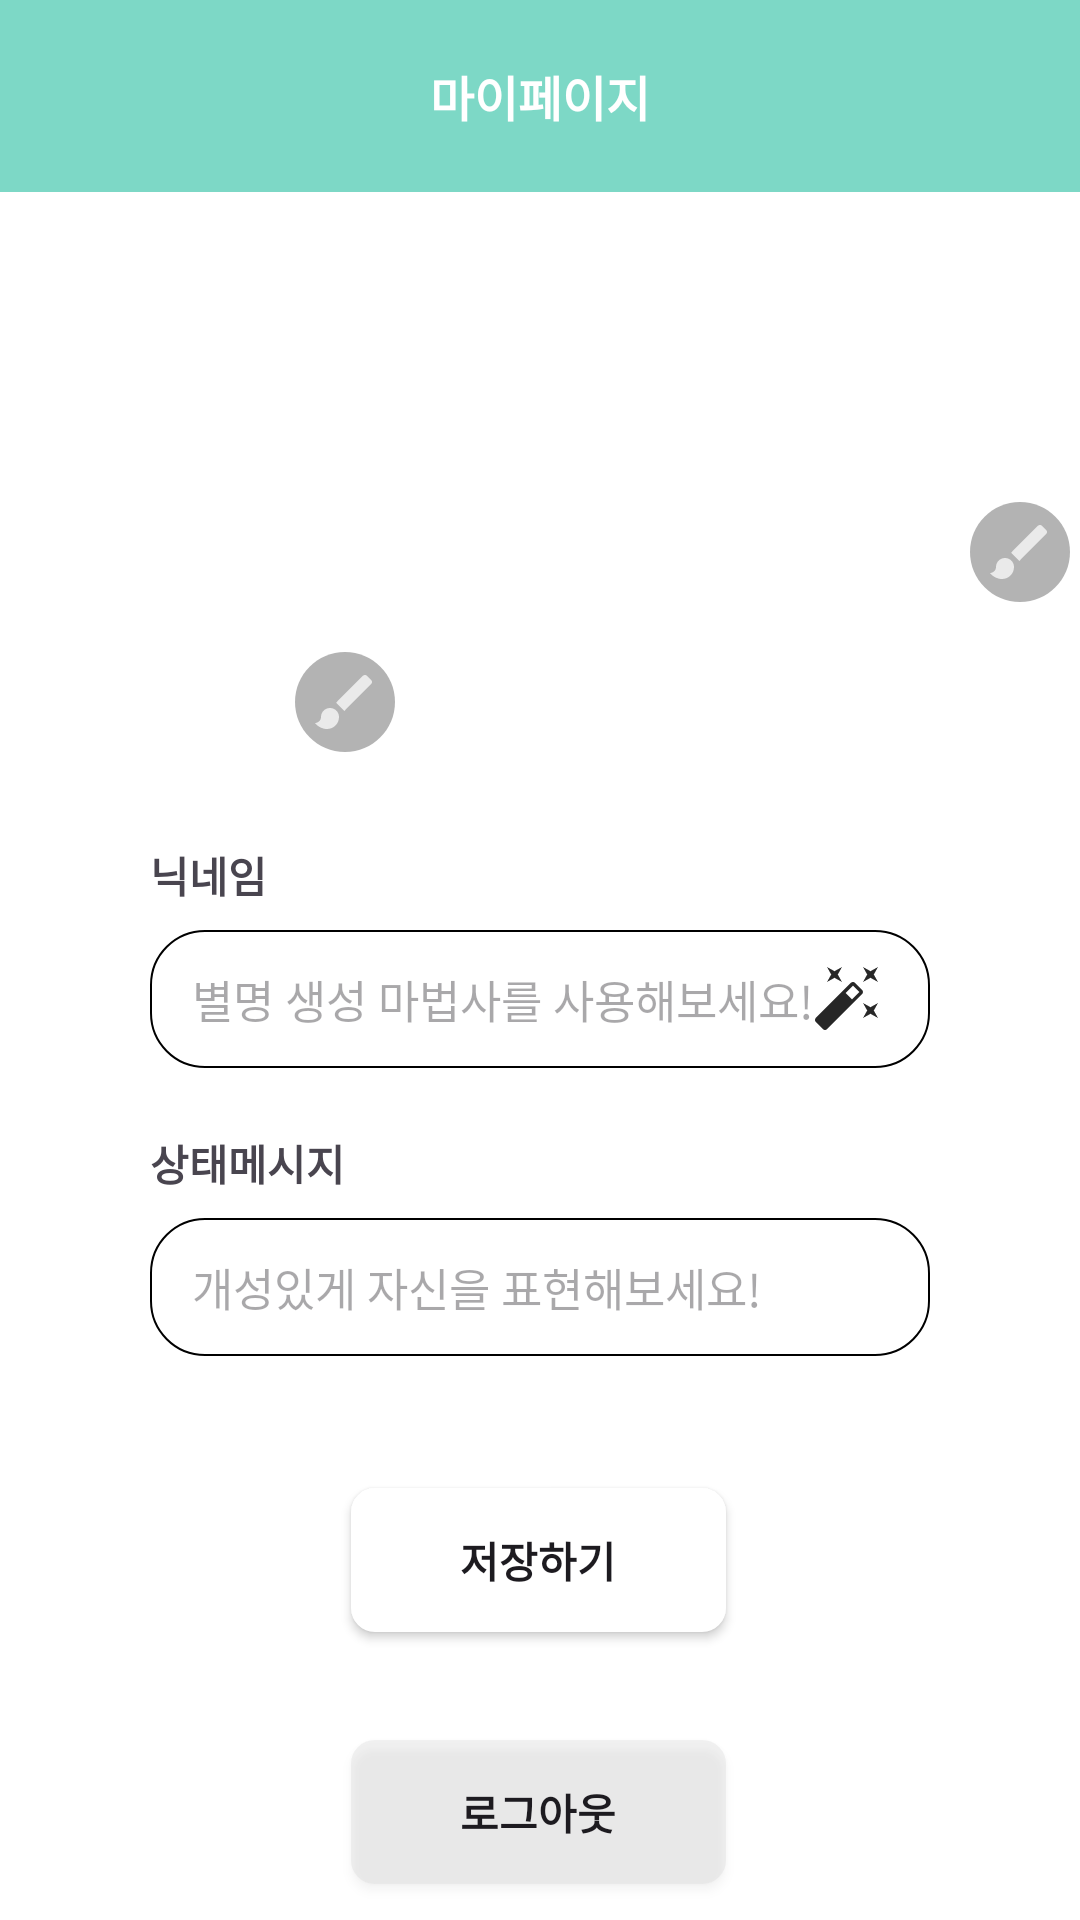

Named icons in this screenshot (1080px x 1920px) and their centers, (x,y):
brush: (1018,552), (343,702)
magic: (840,998)
